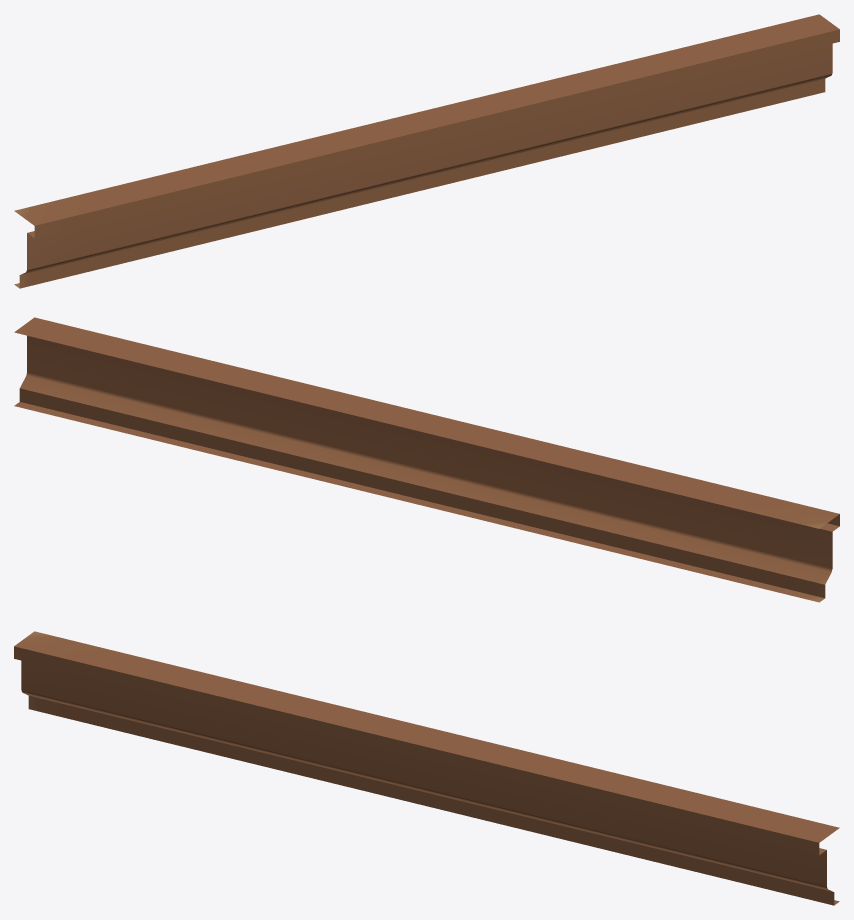
File: DBK_Trim_A_Full.fbx
3 views of the same model, one above another, from view 1: azimuth 30°, elevation 25°; view 2: azimuth 150°, elevation 25°; view 3: azimuth 330°, elevation 25° (orthographic).
Visible parts, largest first — view 1: DBK_Trim_A_Full; view 2: DBK_Trim_A_Full; view 3: DBK_Trim_A_Full.
Boxes of the visible parts, x1=… form: DBK_Trim_A_Full: x1=14, y1=14, x2=839, y2=288; DBK_Trim_A_Full: x1=14, y1=317, x2=839, y2=602; DBK_Trim_A_Full: x1=14, y1=631, x2=839, y2=905.
Bounding box in the file's own units: 300 × 26.2 × 13.26.
